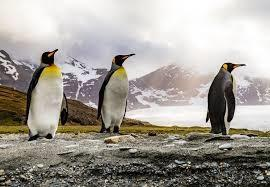king: (199, 49, 260, 140), (92, 42, 141, 146), (29, 40, 76, 147)
